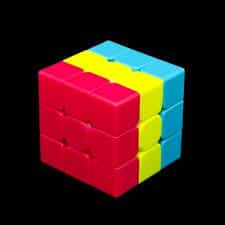rubik_cube: (35, 37, 191, 201)
